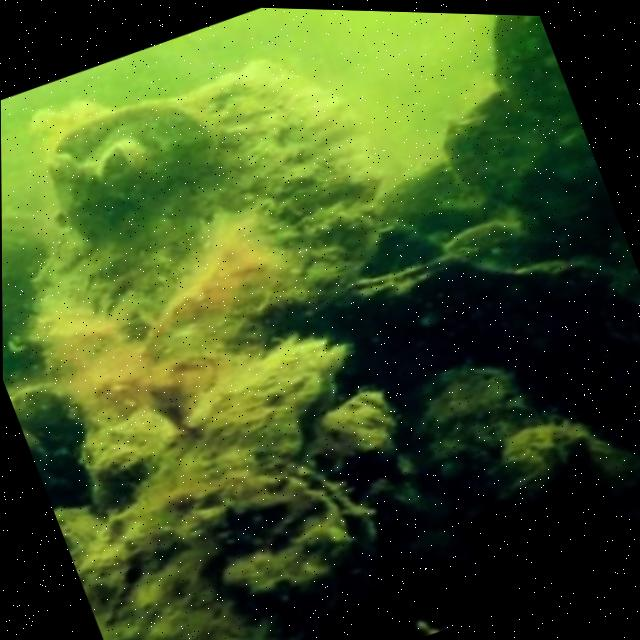Oyster-Closed: (140, 450, 380, 600), (302, 254, 522, 329), (204, 353, 336, 451)
Oyster-Indeterminate: (65, 103, 215, 197), (46, 158, 110, 246)
